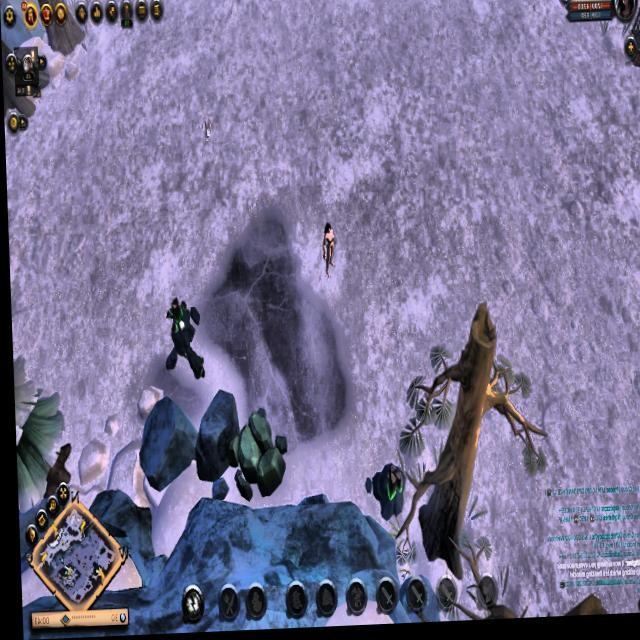sandstone: (214, 406, 290, 503)
tin_ore: (365, 466, 410, 519)
